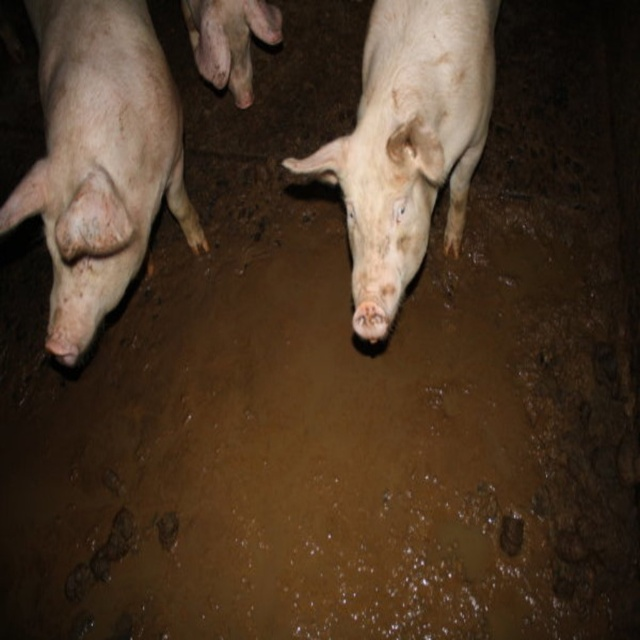Pig: (0, 0, 211, 366), (281, 0, 500, 342), (182, 0, 283, 109)
